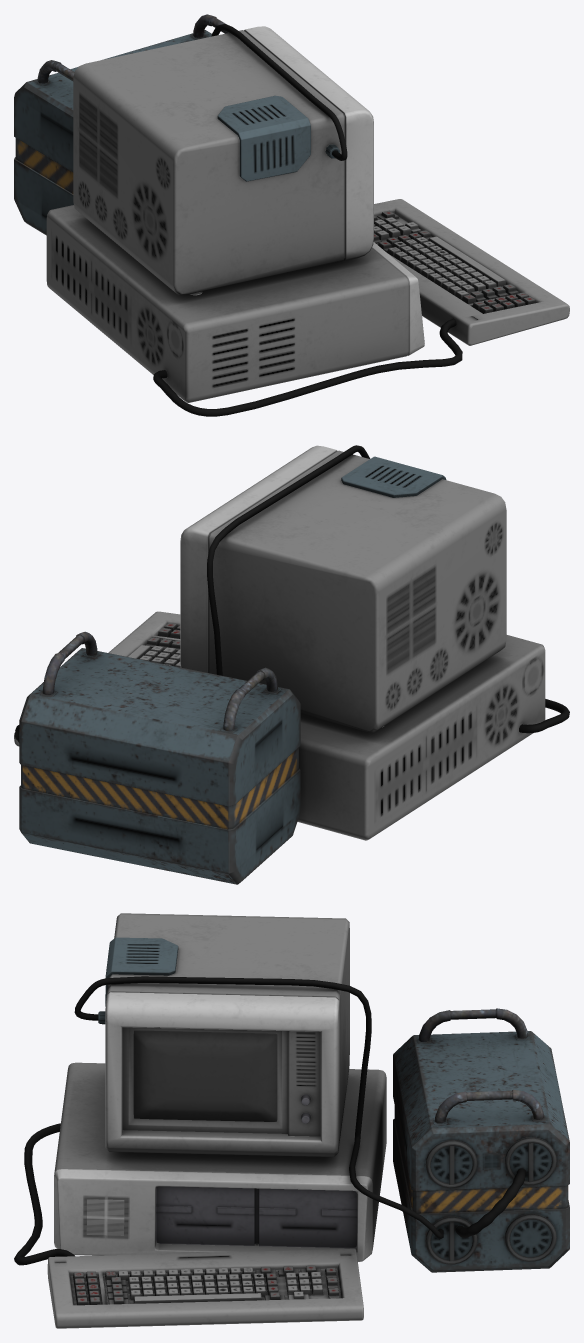
File: Console 1.fbx
3 renders of one model, top to bottom at view 1: azimuth 30°, elevation 25°; view 2: azimuth 150°, elevation 25°; view 3: azimuth 270°, elevation 25°, orthographic. The views are drawn at different scales.
Visible parts, largest first — view 1: Console_1; view 2: Console_1; view 3: Console_1.
Boxes of the visible parts, x1,y1,x2,y2 form: Console_1: [14, 14, 569, 416]; Console_1: [14, 445, 569, 884]; Console_1: [14, 913, 569, 1328].
Bounding box in the file's own units: 67.48 × 39.98 × 81.08.
1 material, 1 textured.
